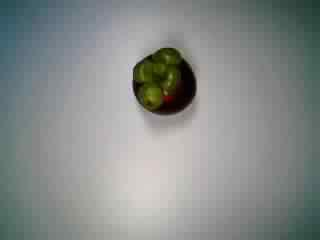mangosteen: (123, 45, 197, 118)
